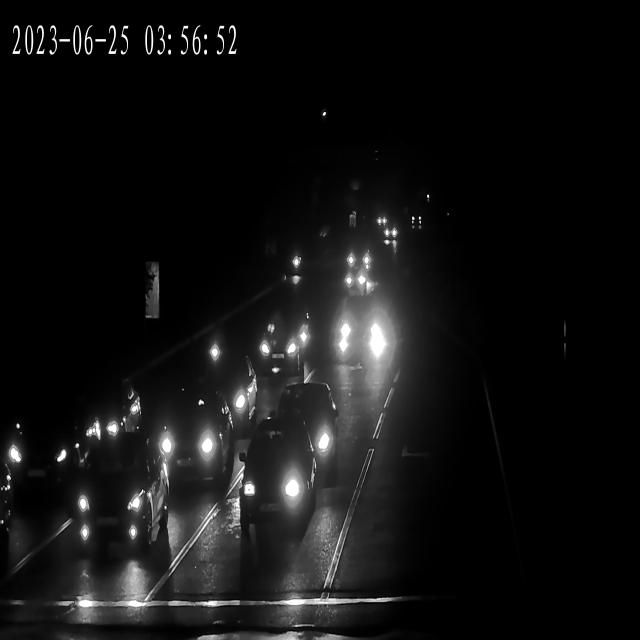Car: (64, 445, 168, 560), (44, 373, 146, 470), (143, 401, 234, 506), (240, 432, 315, 540), (2, 415, 88, 504), (260, 383, 338, 481), (187, 361, 258, 435), (333, 306, 392, 368), (258, 309, 312, 367), (259, 322, 305, 370), (0, 445, 13, 559), (341, 242, 375, 272), (340, 268, 373, 297), (374, 225, 394, 242), (376, 228, 397, 244), (370, 213, 389, 228), (408, 214, 425, 226)
